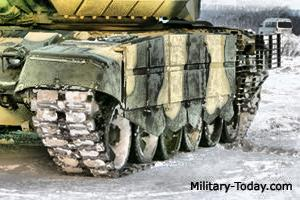tanks: (1, 1, 279, 178)
